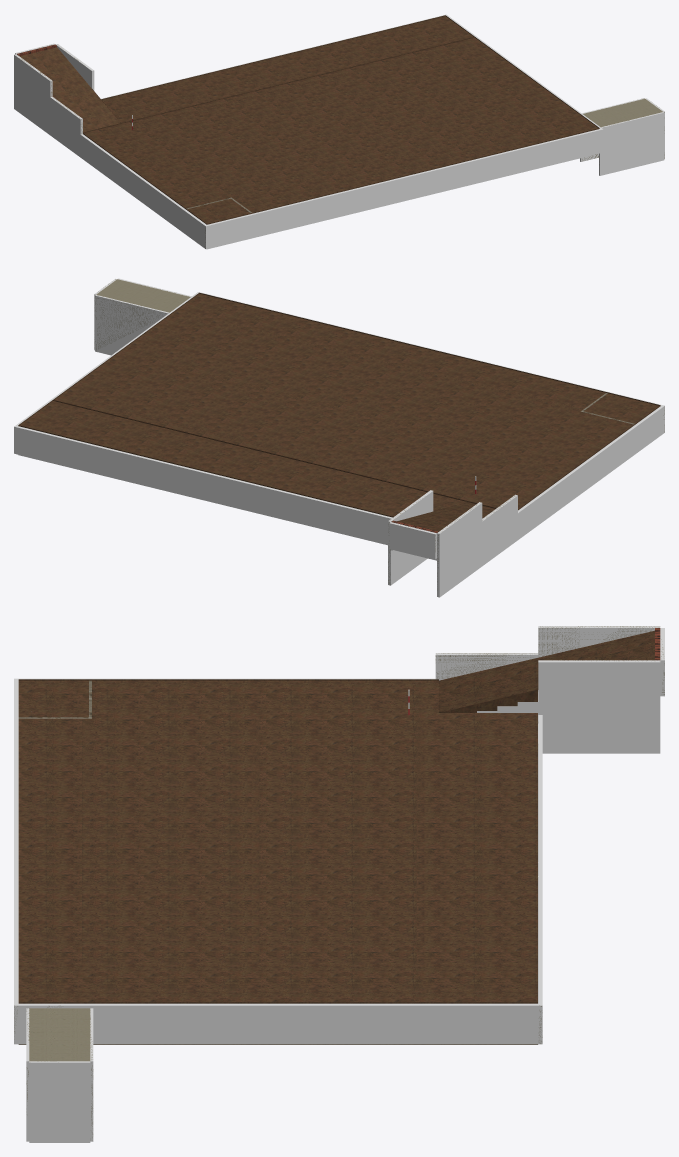
The picture shows the model from 3 angles, top to bottom: view 1: azimuth 30°, elevation 25°; view 2: azimuth 150°, elevation 25°; view 3: azimuth 270°, elevation 25°; orthographic projection. The views are drawn at different scales.
Visible parts, largest first — view 1: S_concrete_smooth, COL, S_concrete_wall; view 2: S_concrete_smooth, COL, S_concrete_wall; view 3: S_concrete_smooth, COL, S_concrete_wall.
Boxes of the visible parts, box(x1,y1,x2,y2) form: S_concrete_smooth: box(20, 15, 599, 224); COL: box(14, 14, 664, 249); S_concrete_wall: box(19, 45, 664, 248); S_concrete_smooth: box(18, 292, 660, 531); COL: box(14, 278, 664, 597); S_concrete_wall: box(94, 279, 664, 585); S_concrete_smooth: box(18, 630, 654, 1003); COL: box(14, 626, 664, 1142); S_concrete_wall: box(14, 626, 664, 1137).
Size of what is drawn, in the model's own units: 59 by 9.82 by 42.6.
85 materials, 39 textured.
